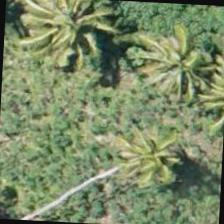Kelapa_Sawit: (111, 14, 206, 109), (112, 111, 207, 206), (19, 0, 114, 76)
